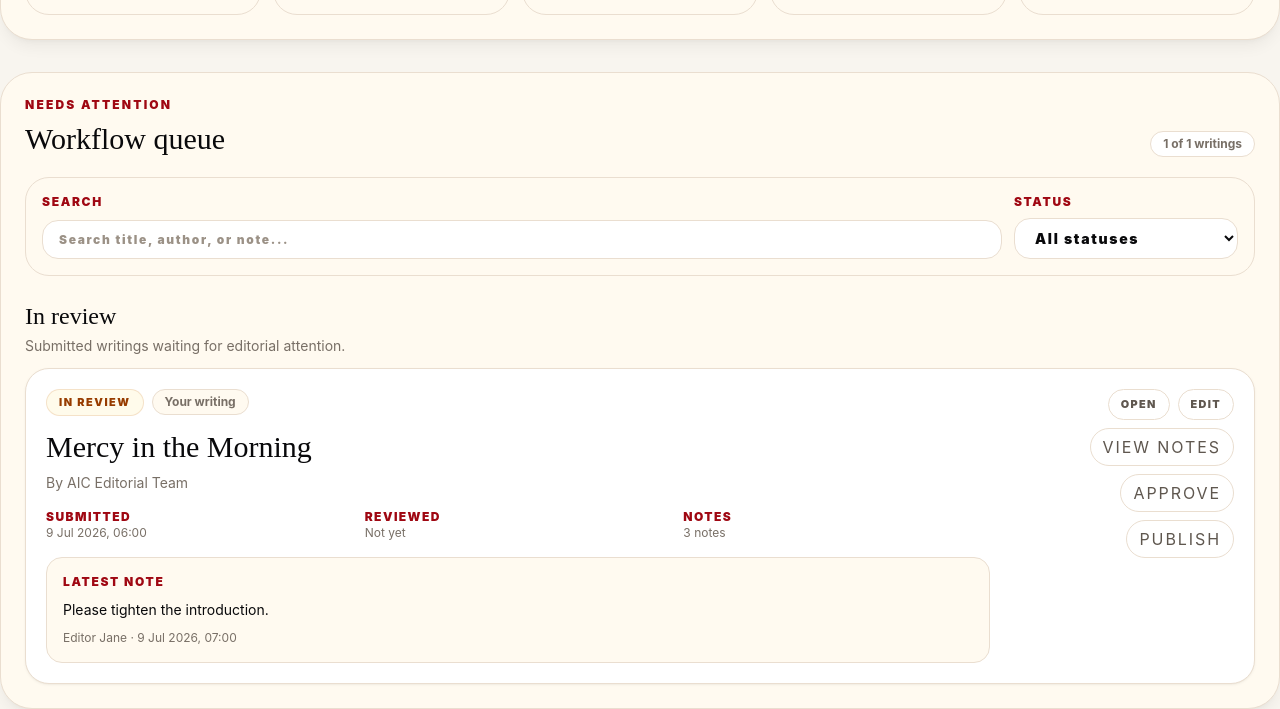
WritingEditorialPage › approves a writing and refreshes the editorial queue
(page scrolled)
Click the button "Approve": (1177, 493) [1120,474,1234,512]
(page scrolled)
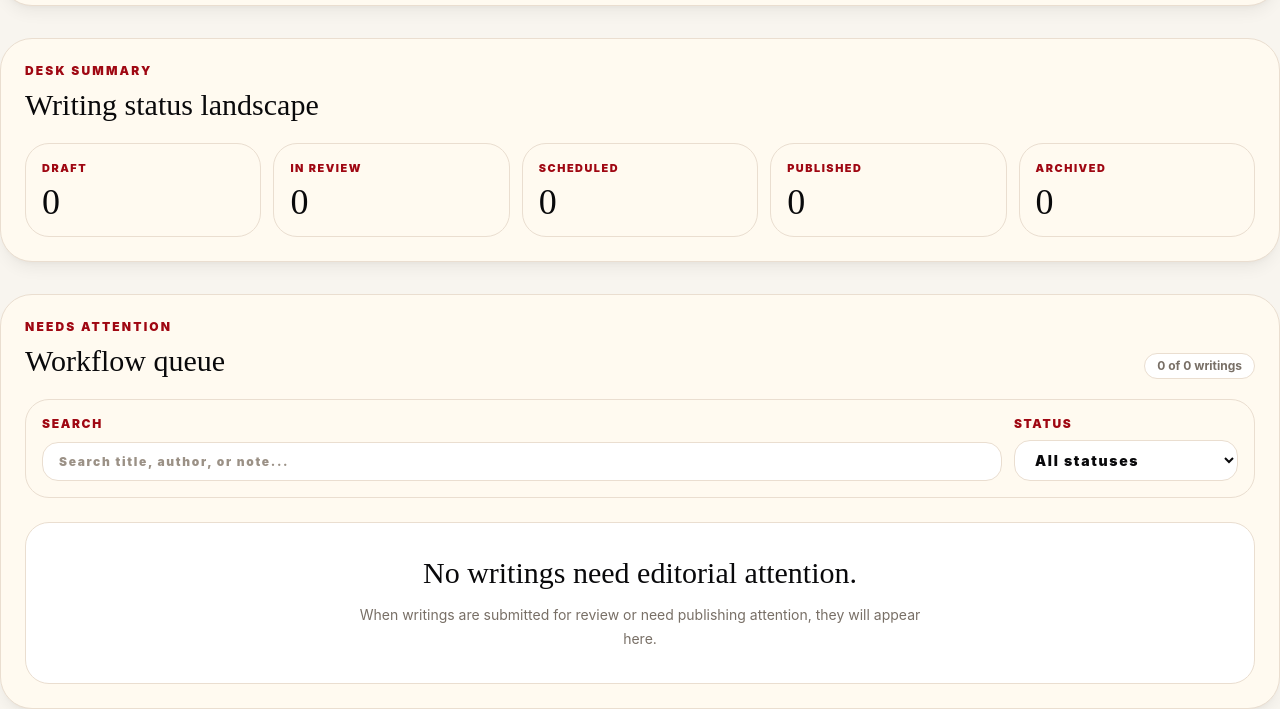
Now the text "No writings need editorial attention." is shown, box [423,556,857,589]
